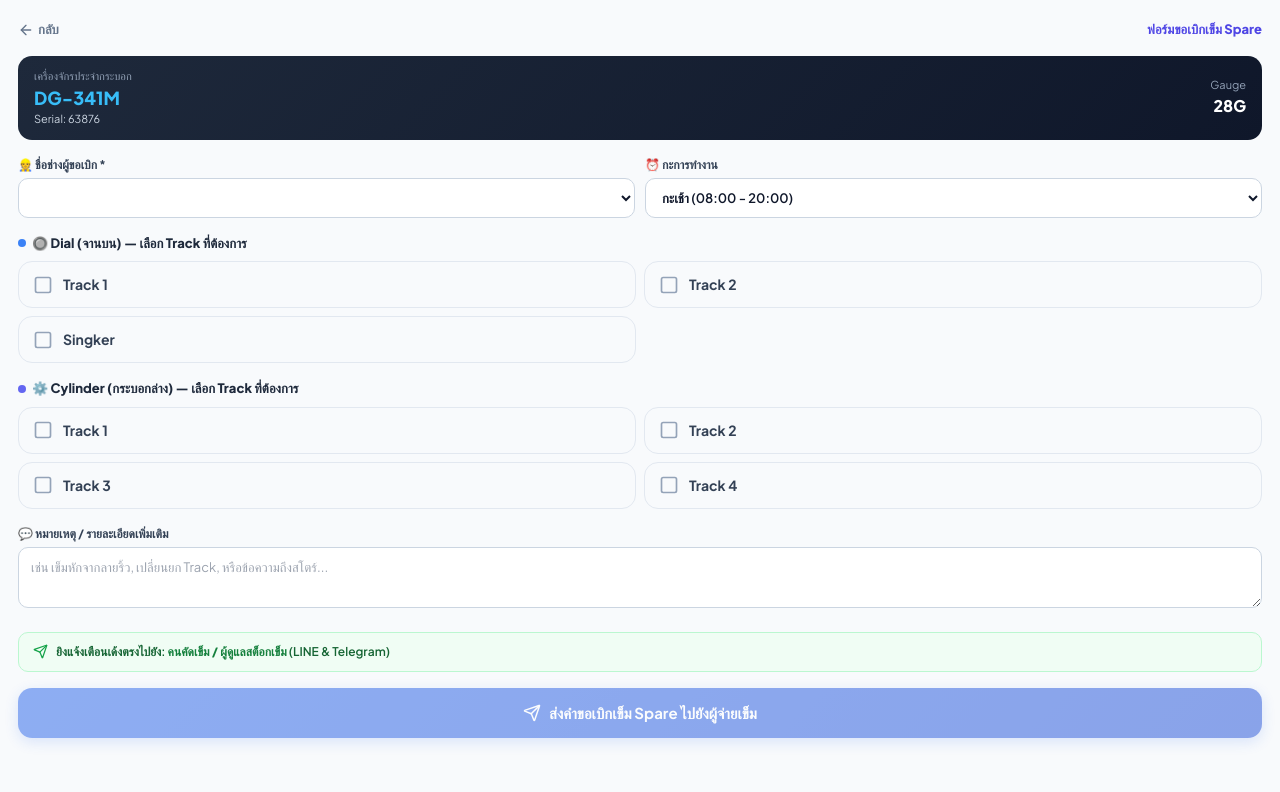
it: SpareNeedleFlow Components › StepSpareNeedleRequest initializes tracks with 50 and allows quick presets and manual input
The width and height of the screenshot is (1280, 792).
Expected: the text "ฟอร์มขอเบิกเข็ม Spare" is shown, [1147, 20, 1262, 40]
Expected: the text "DG-341M" is shown, [34, 84, 132, 111]
Click the text "Singker" at (89, 340), box [63, 329, 115, 350]
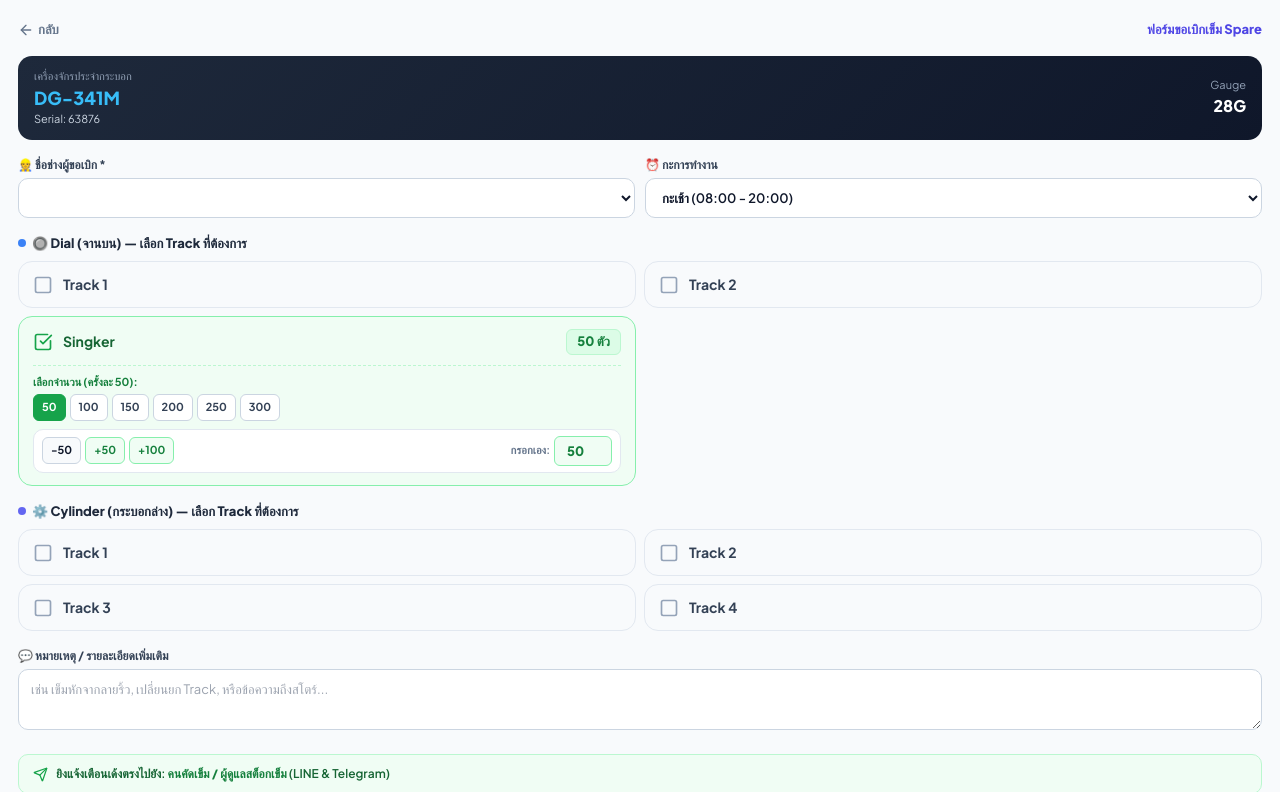
# Find Track 1 and click it
Click the text "Track 1" below "🔘 Dial (จานบน) — เลือก Track ที่ต้องการ" at (85, 284), box [63, 274, 108, 295]
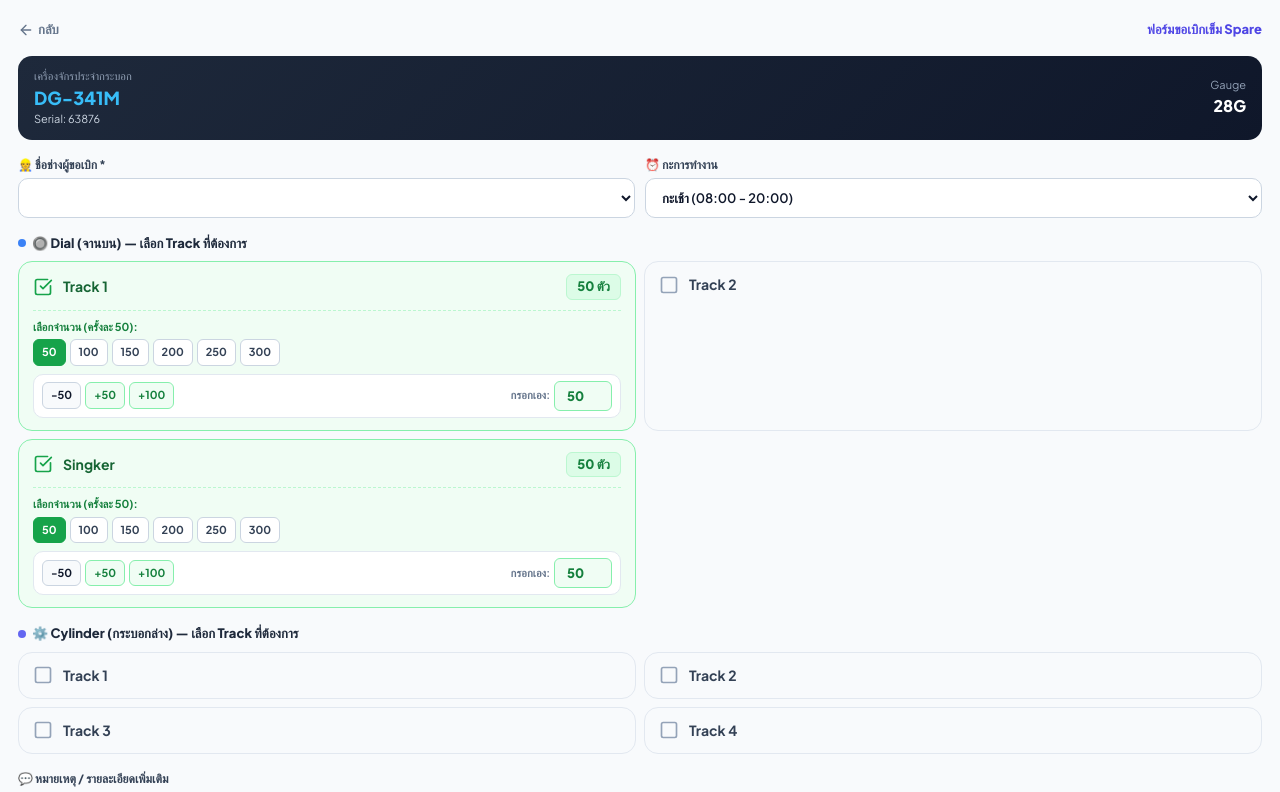
Now the button "150" below "Singker" is shown
# Click preset 150 for Track 1
Click the button "150" below "Singker" at (130, 530), box [112, 516, 149, 543]
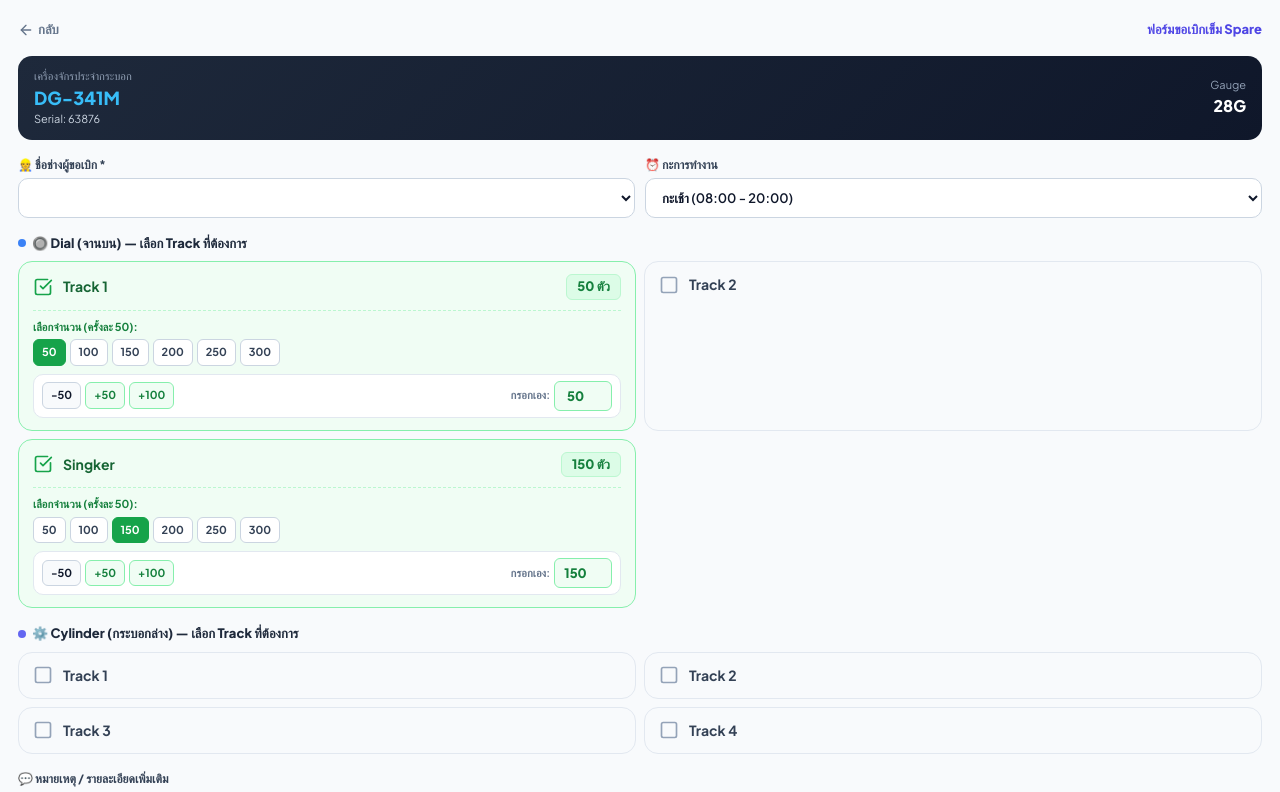
Now the text "150 ตัว" is shown, box [561, 452, 621, 477]
# Click +50 button
Click the button "+50" below "Singker" at (105, 573), box [85, 560, 125, 586]
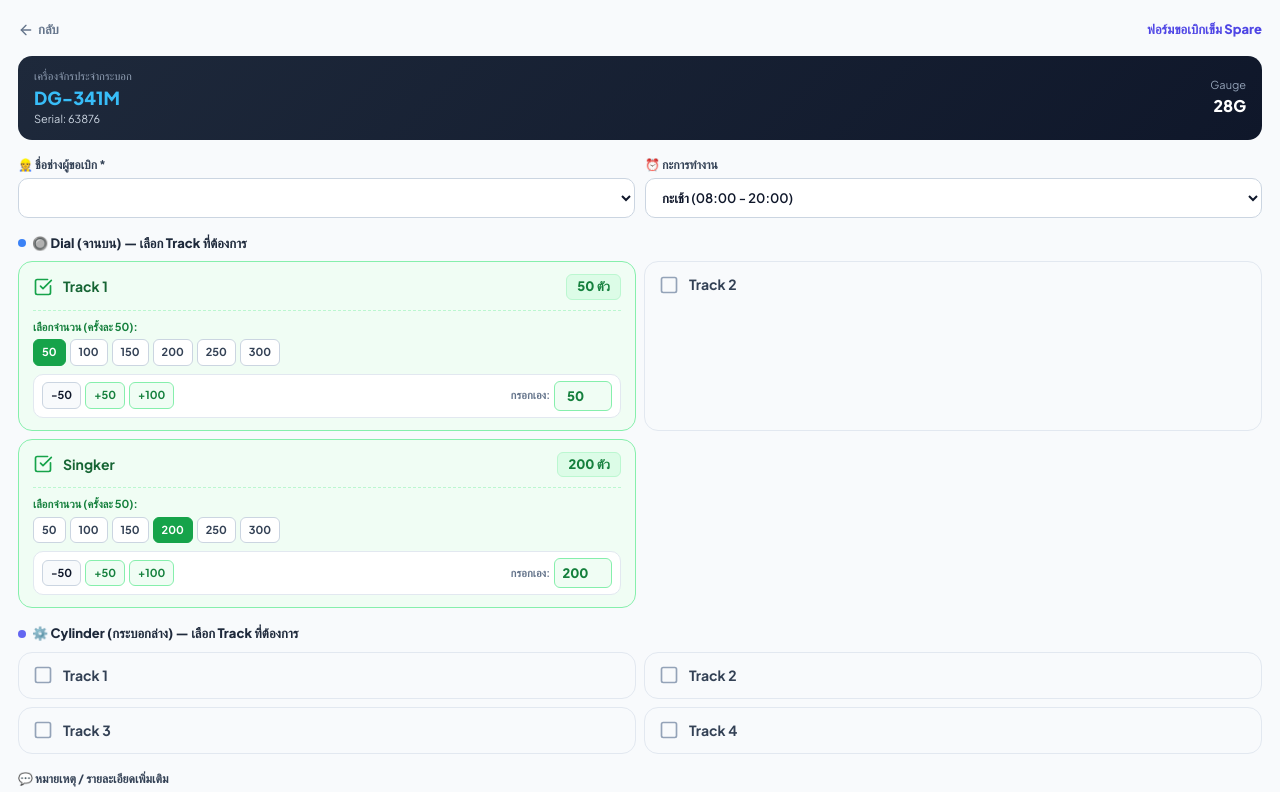
Now the 2nd number field with placeholder "ระบุ" is shown
Now the text "200 ตัว" is shown, box [557, 452, 621, 477]
Now the 2nd number field with placeholder "ระบุ" holds "200"
Replace the text in the 2nd number field with placeholder "ระบุ" with "250" at (583, 573), box [554, 558, 612, 588]
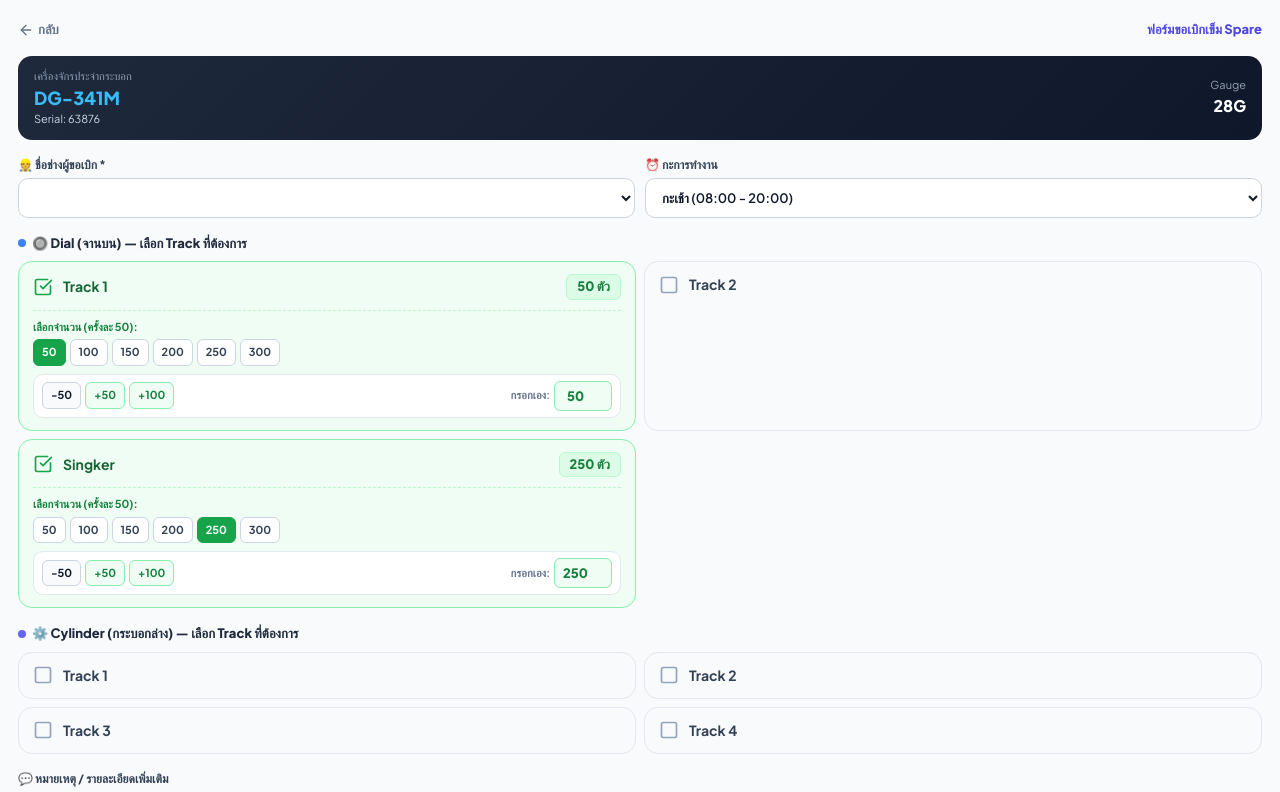
Now the text "250 ตัว" is shown, box [558, 452, 621, 477]
